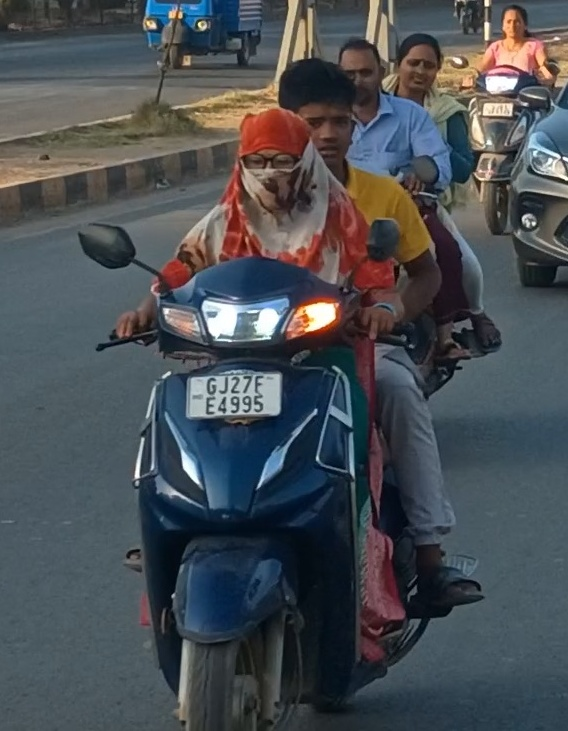BikeWithRider: (74, 58, 476, 731), (337, 27, 504, 370), (451, 2, 555, 235)
NoHelmet: (229, 103, 321, 213), (276, 59, 354, 169), (338, 37, 385, 107), (395, 31, 446, 92), (497, 4, 531, 43)
